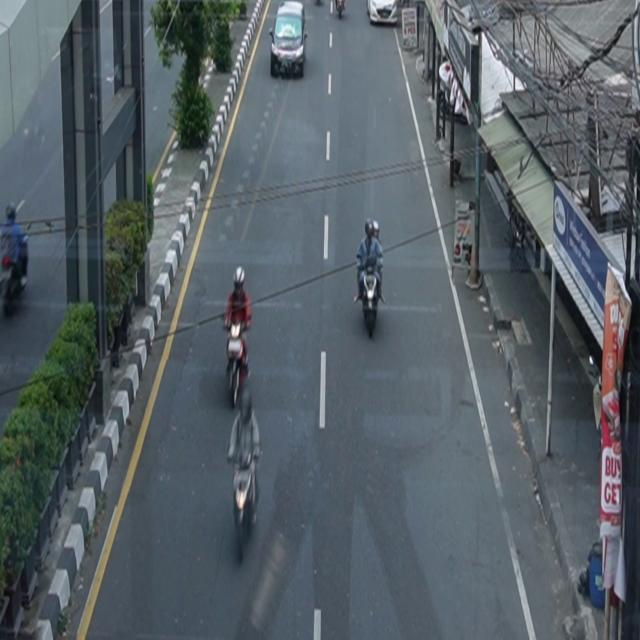car: (269, 2, 309, 79), (367, 1, 398, 26)
